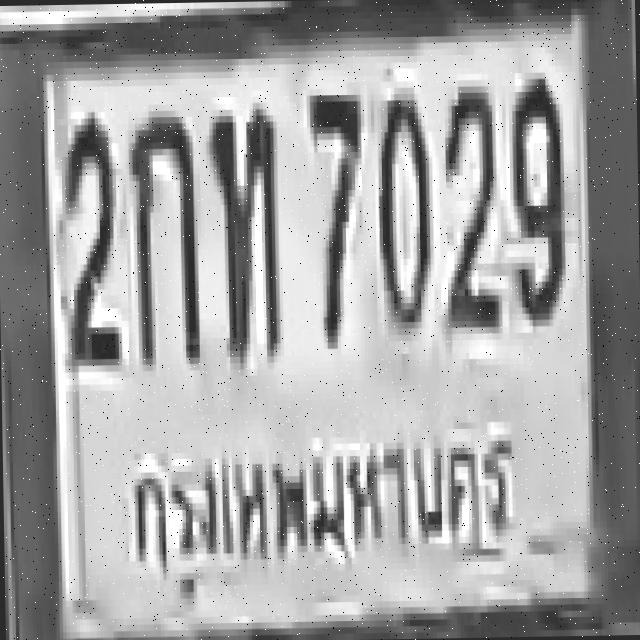0: (373, 84, 428, 326)
10GorGai: (126, 110, 198, 358)
2: (61, 112, 116, 366), (440, 80, 496, 328)
32ThorThaHan: (206, 102, 278, 357)
7: (306, 89, 360, 342)
9: (508, 72, 563, 320)
Bangkok: (121, 422, 523, 602)
